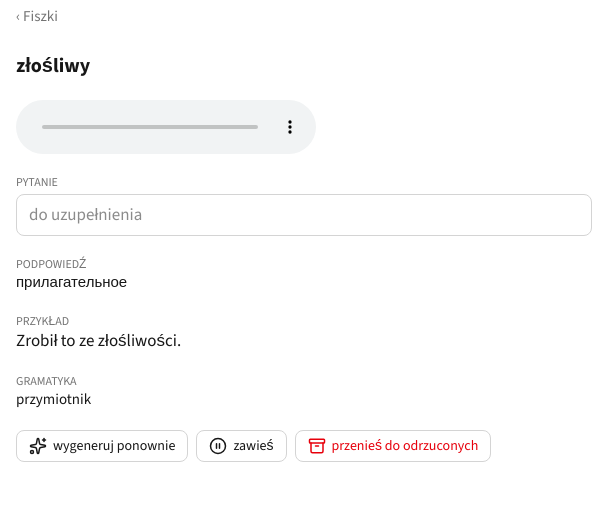
Scenario: CardDetailPage › shows an error when regeneration fails, instead of looking like a dead button
Click the button "wygeneruj ponownie": [102, 446] box [16, 430, 188, 462]
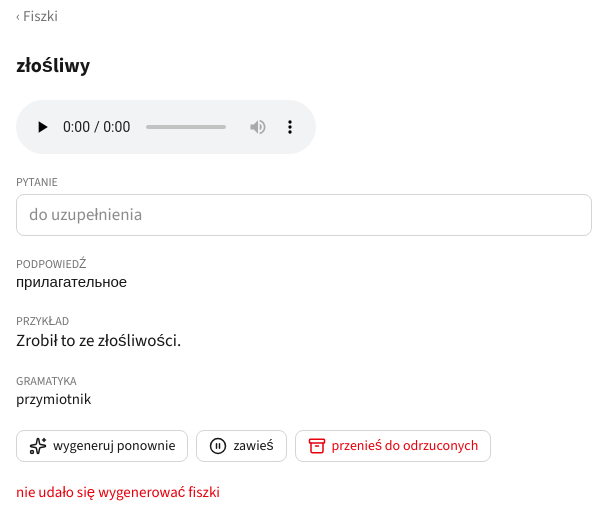
expect the text "nie udało się wygenerować fiszki" is shown: met, box [16, 482, 220, 502]
